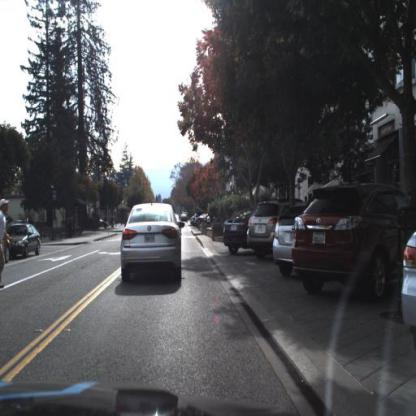car: (286, 178, 415, 298), (109, 199, 191, 291), (272, 192, 303, 280), (247, 190, 277, 265), (400, 225, 416, 355), (6, 216, 41, 260), (221, 205, 249, 256), (274, 208, 294, 265)
pedestrian: (1, 195, 17, 308), (2, 198, 10, 291)
